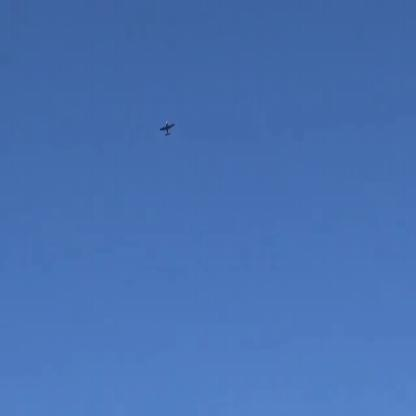CIV_Plane: (158, 120, 176, 136)
